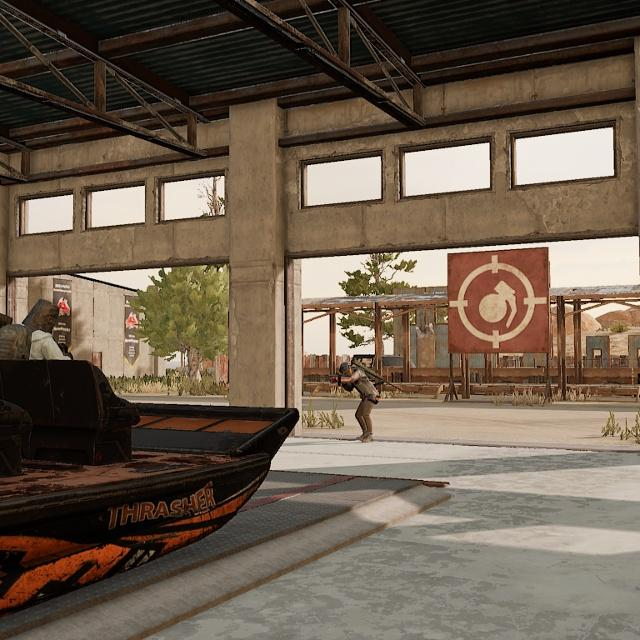head: (20, 295, 60, 335), (337, 359, 355, 378)
people: (3, 291, 84, 360), (330, 358, 386, 445)
